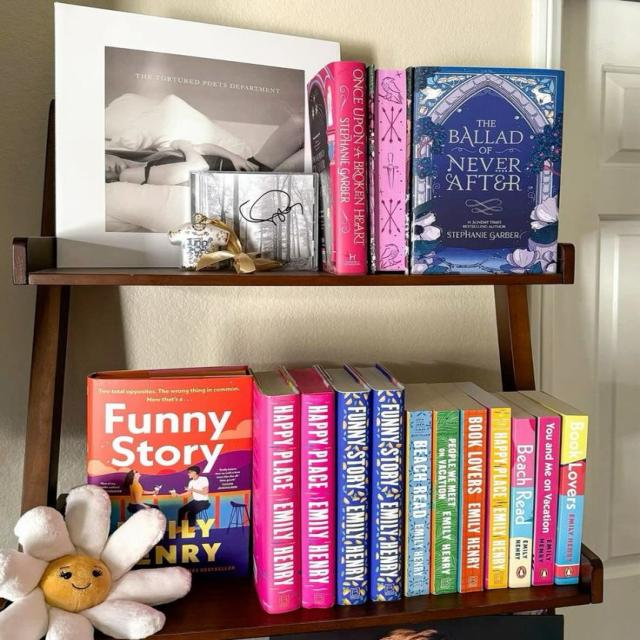book: (369, 64, 410, 273), (266, 392, 300, 612), (332, 60, 367, 272), (300, 395, 335, 607), (371, 390, 404, 603), (337, 391, 369, 604), (462, 409, 487, 594), (408, 411, 432, 595), (434, 409, 458, 593), (560, 417, 585, 586), (488, 409, 508, 591), (511, 416, 531, 589), (538, 417, 556, 588)
